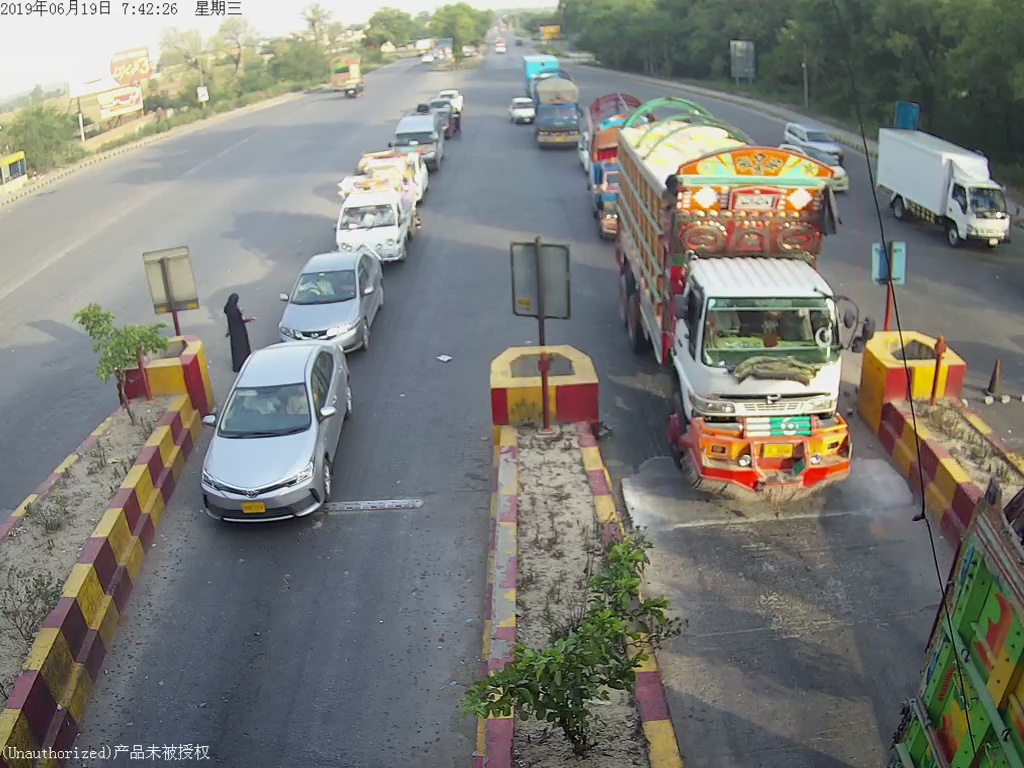Cat-1: (202, 358, 373, 525), (277, 254, 385, 346)
Cat-2: (336, 164, 421, 259)
Cat-4: (602, 90, 861, 505)
